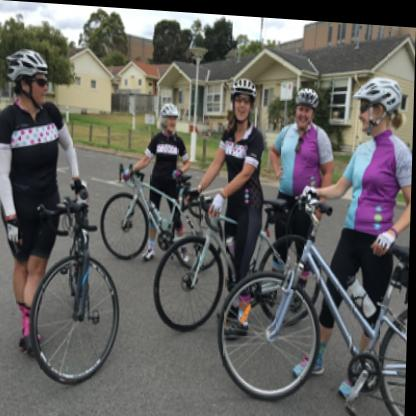With Helmet: (354, 66, 408, 139), (3, 42, 53, 115), (226, 67, 261, 124), (289, 82, 323, 130), (157, 97, 185, 133)
